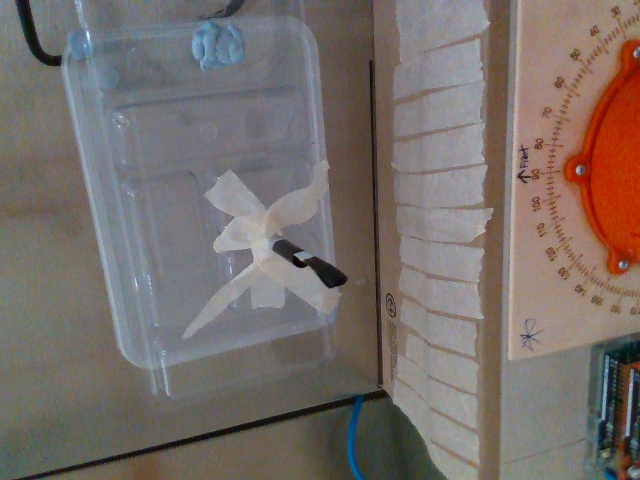test_strip: (293, 248, 345, 289)
